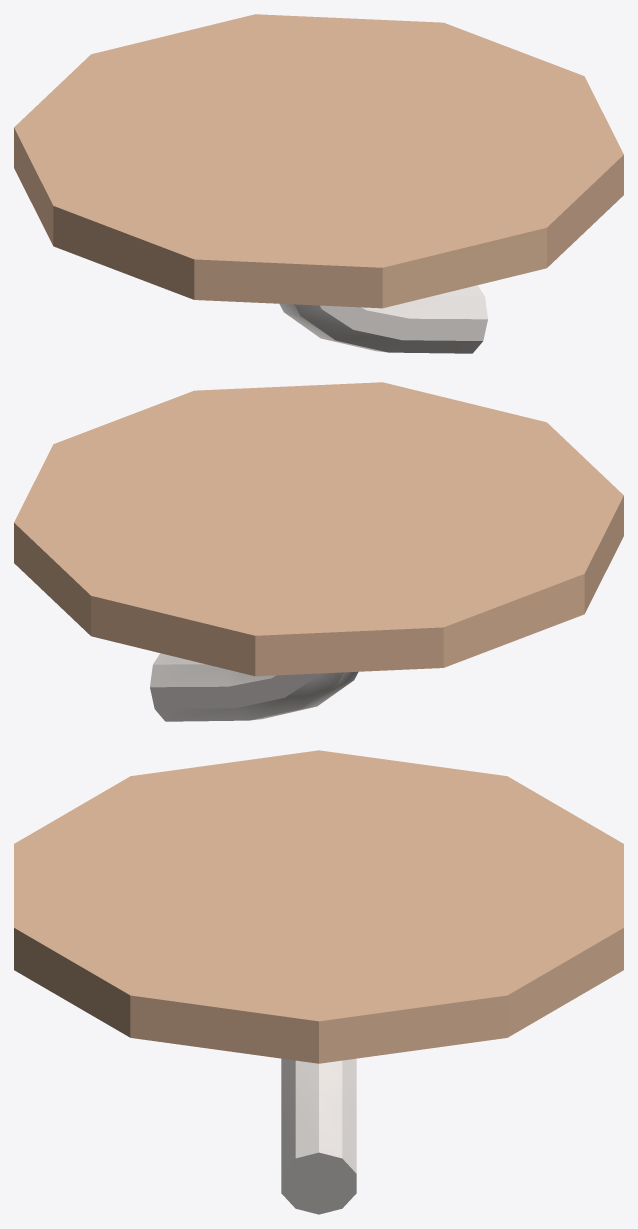
The model's file is Mushroom2.fbx.
The picture shows the model from 3 angles, top to bottom: view 1: azimuth 30°, elevation 25°; view 2: azimuth 150°, elevation 25°; view 3: azimuth 270°, elevation 25°; orthographic projection. The views are drawn at different scales.
Parts seen in each view (by area): view 1: pCylinder3, pCylinder4; view 2: pCylinder3, pCylinder4; view 3: pCylinder3, pCylinder4.
Boxes of the visible parts, <box> form: pCylinder3: <box>14,14,623,308</box>; pCylinder4: <box>279,285,487,353</box>; pCylinder3: <box>14,382,623,676</box>; pCylinder4: <box>150,653,358,721</box>; pCylinder3: <box>14,750,623,1063</box>; pCylinder4: <box>281,1058,356,1214</box>.
Bounding box in the file's own units: 180 × 79.55 × 171.
